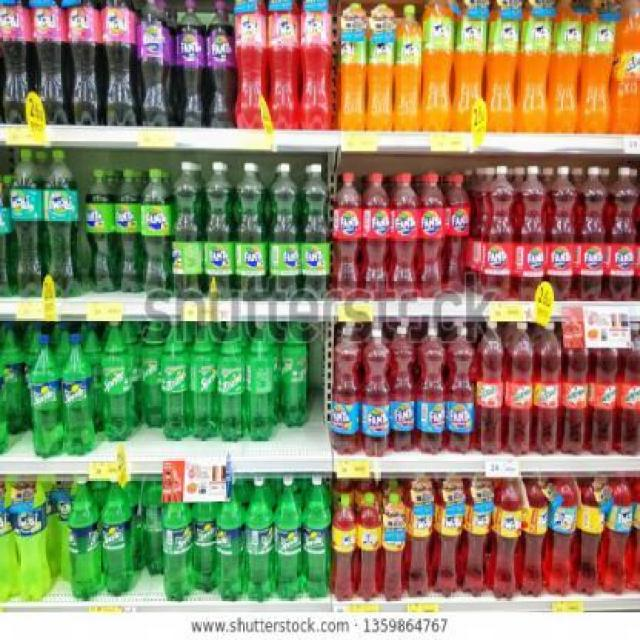Drinks: (170, 162, 204, 300), (480, 165, 514, 301), (268, 162, 300, 301), (235, 162, 267, 300), (607, 165, 639, 301), (203, 162, 234, 300), (139, 168, 172, 297), (300, 163, 331, 300), (204, 0, 236, 128), (578, 165, 608, 301), (61, 333, 93, 458), (359, 329, 390, 458), (330, 326, 361, 454), (68, 475, 100, 599), (99, 478, 132, 598), (548, 166, 577, 302), (518, 165, 547, 301), (100, 320, 132, 443), (176, 0, 207, 126), (29, 335, 60, 459), (446, 327, 476, 455), (362, 172, 392, 299), (274, 477, 304, 601), (333, 172, 362, 299), (304, 477, 333, 601), (417, 326, 445, 454), (392, 172, 420, 299), (162, 488, 193, 602), (246, 478, 274, 602), (86, 170, 114, 292), (189, 322, 217, 442), (421, 172, 447, 298), (390, 327, 416, 451), (115, 169, 139, 293), (217, 501, 246, 601), (448, 174, 472, 294), (140, 320, 165, 429), (193, 502, 216, 593)
